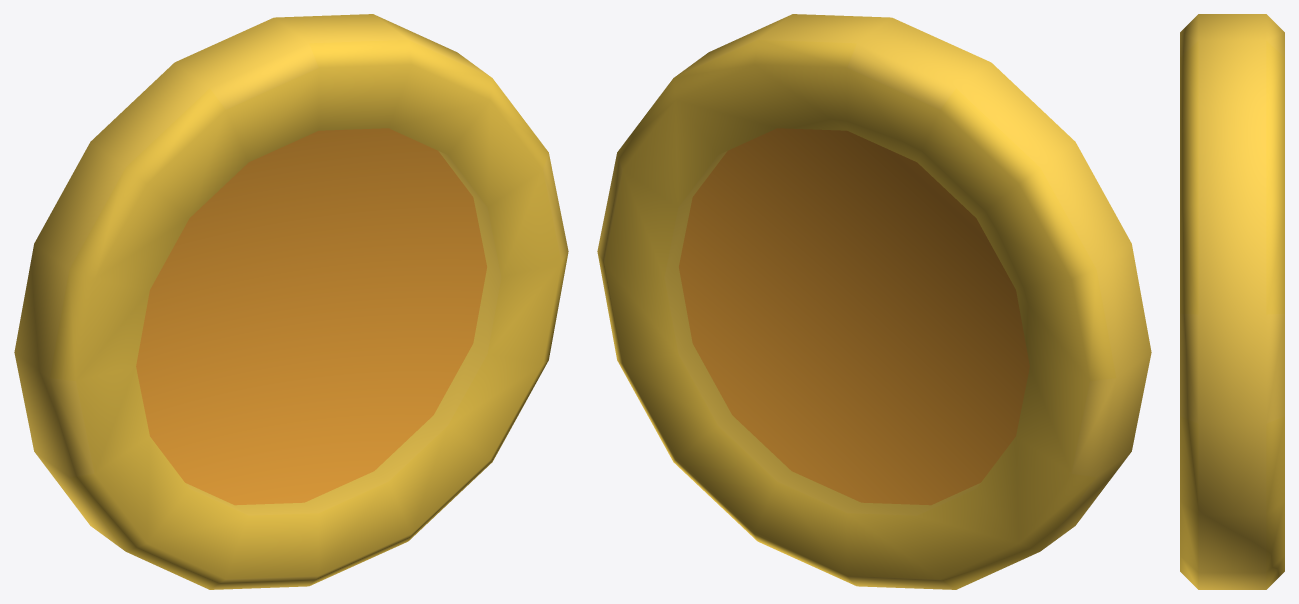
File: Coin.glb
3 views of the same model, side by side, from view 1: azimuth 30°, elevation 25°; view 2: azimuth 150°, elevation 25°; view 3: azimuth 270°, elevation 25° (orthographic). The views are drawn at different scales.
Parts seen in each view (by area): view 1: Coin; view 2: Coin; view 3: Coin.
Boxes of the visible parts, box(x1,y1,x2,y2) form: Coin: box(14, 14, 568, 589); Coin: box(597, 14, 1151, 589); Coin: box(1180, 14, 1284, 589).
Bounding box in the file's own units: 0.6771 × 0.6771 × 0.1233.
1 material, 1 textured.
